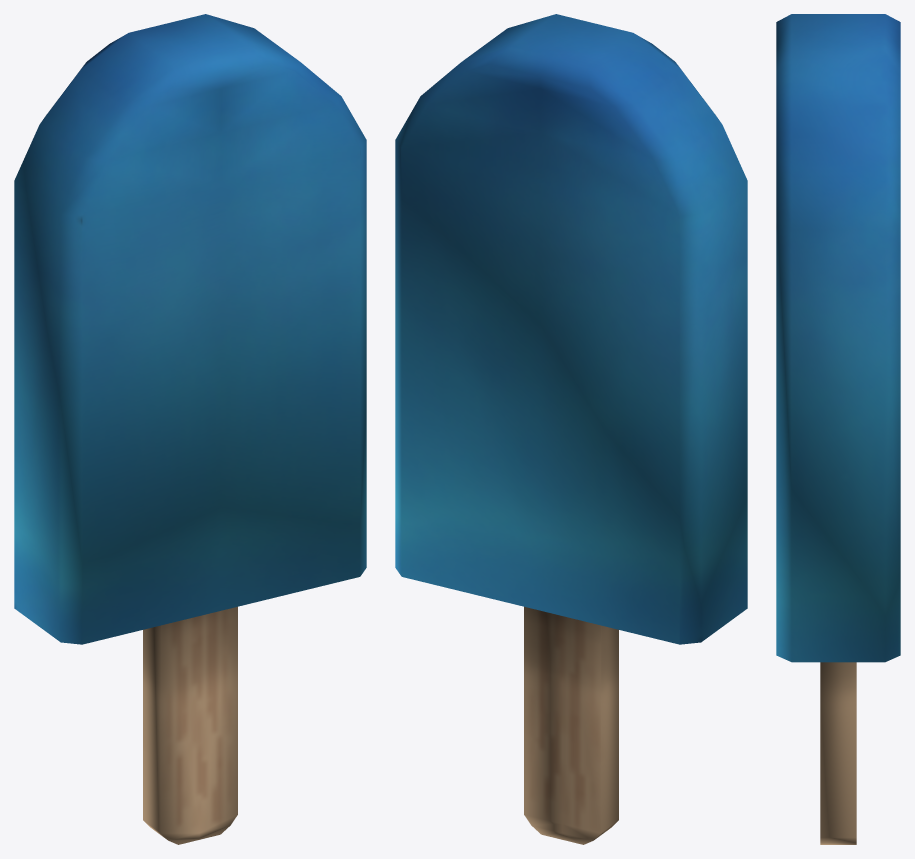
File: icecream.fbx
3 views of the same model, side by side, from view 1: azimuth 30°, elevation 25°; view 2: azimuth 150°, elevation 25°; view 3: azimuth 270°, elevation 25° (orthographic).
Parts seen in each view (by area): view 1: Cube; view 2: Cube; view 3: Cube.
Part boxes in pixels (box(x1,y1,x2,y2)): Cube: box(14, 14, 366, 844); Cube: box(395, 14, 747, 844); Cube: box(776, 14, 900, 844).
Bounding box in the file's own units: 119 × 295 × 41.55.
